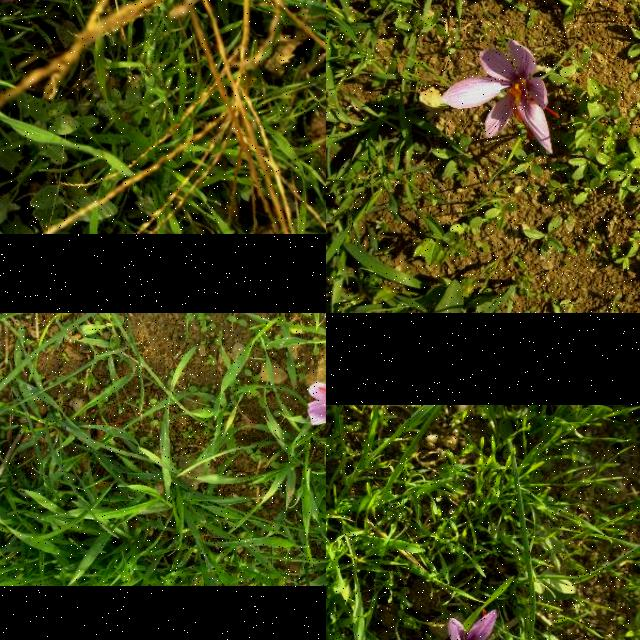flower: (440, 40, 560, 154), (424, 609, 539, 640), (307, 382, 326, 433)
